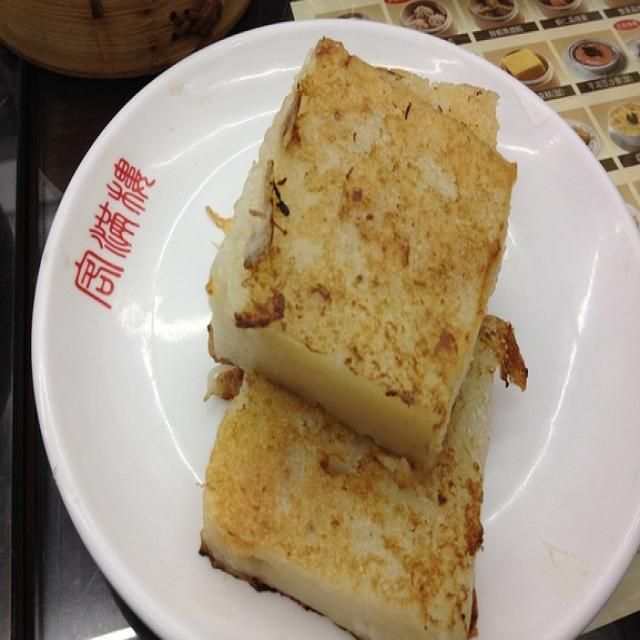蛋糕甜品: (48, 27, 626, 631)
